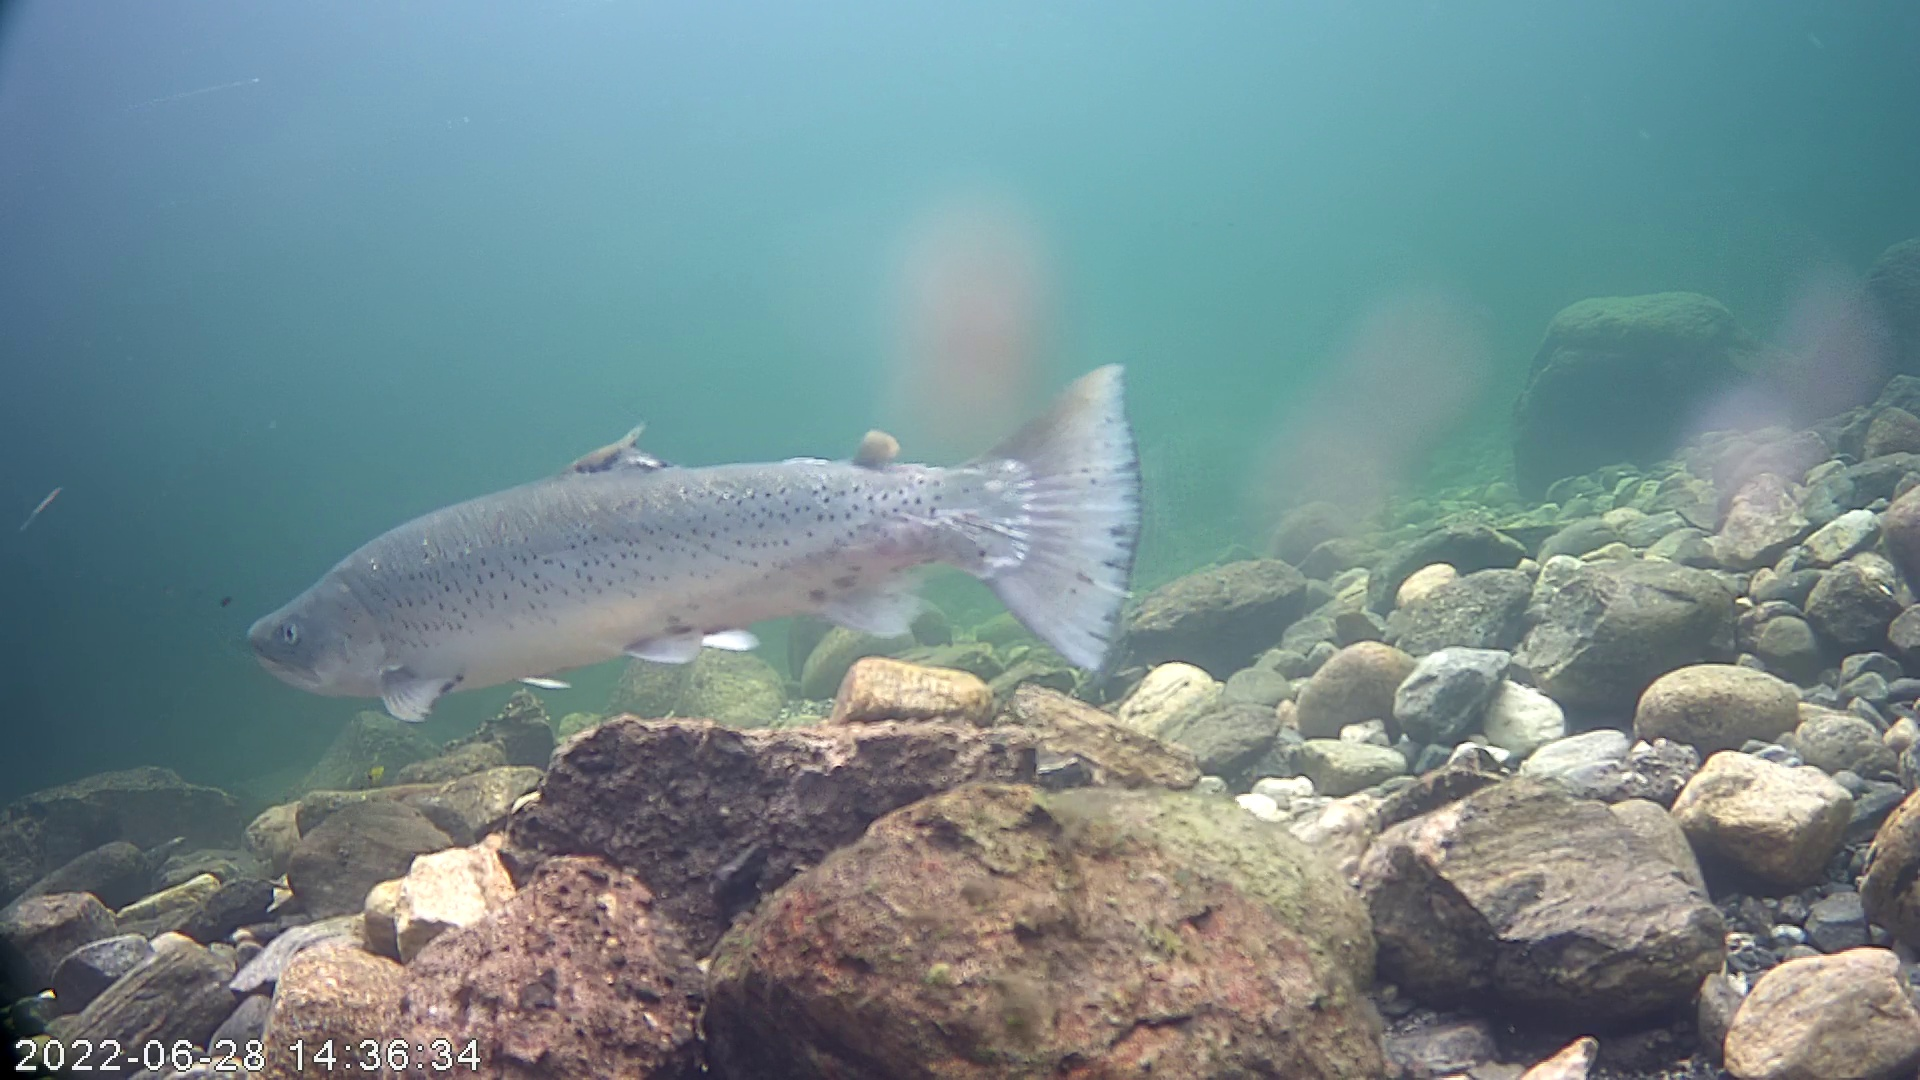salmon: (228, 301, 1172, 737)
